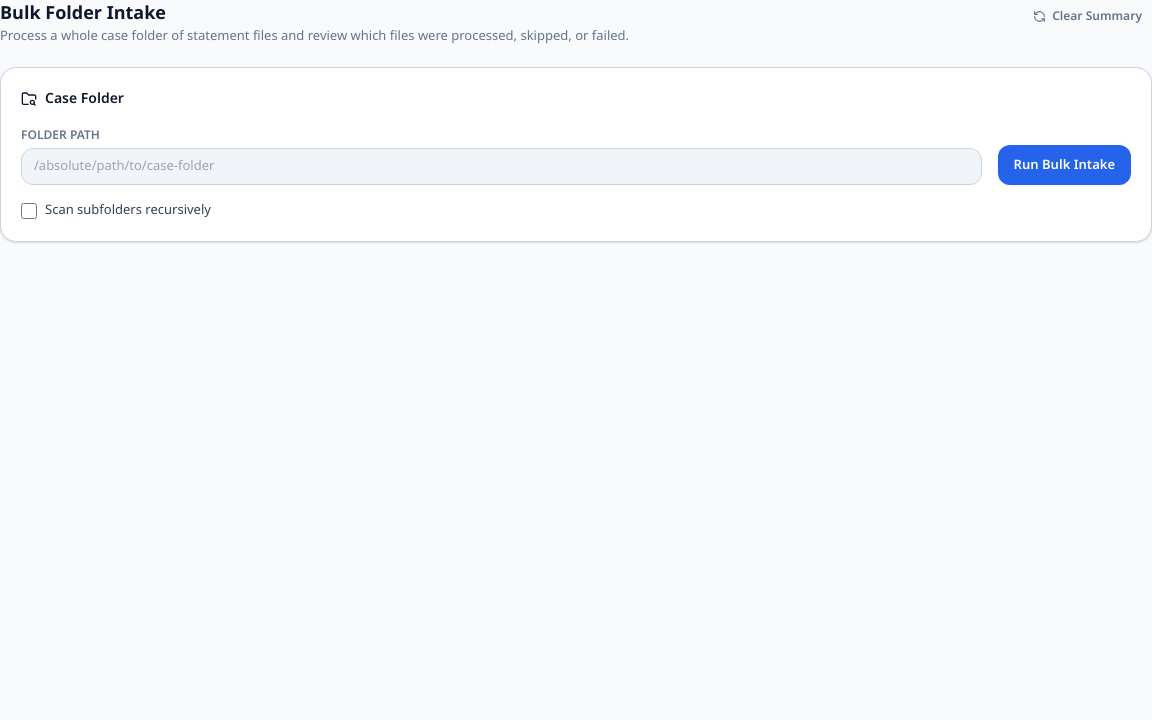
BulkIntake › filters to analyst-review rows only
This screenshot has width=1152, height=720.
In the field with placeholder "/absolute/path/to/case-folder": (501, 167) [21,148,982,185], type "/cases/demo"
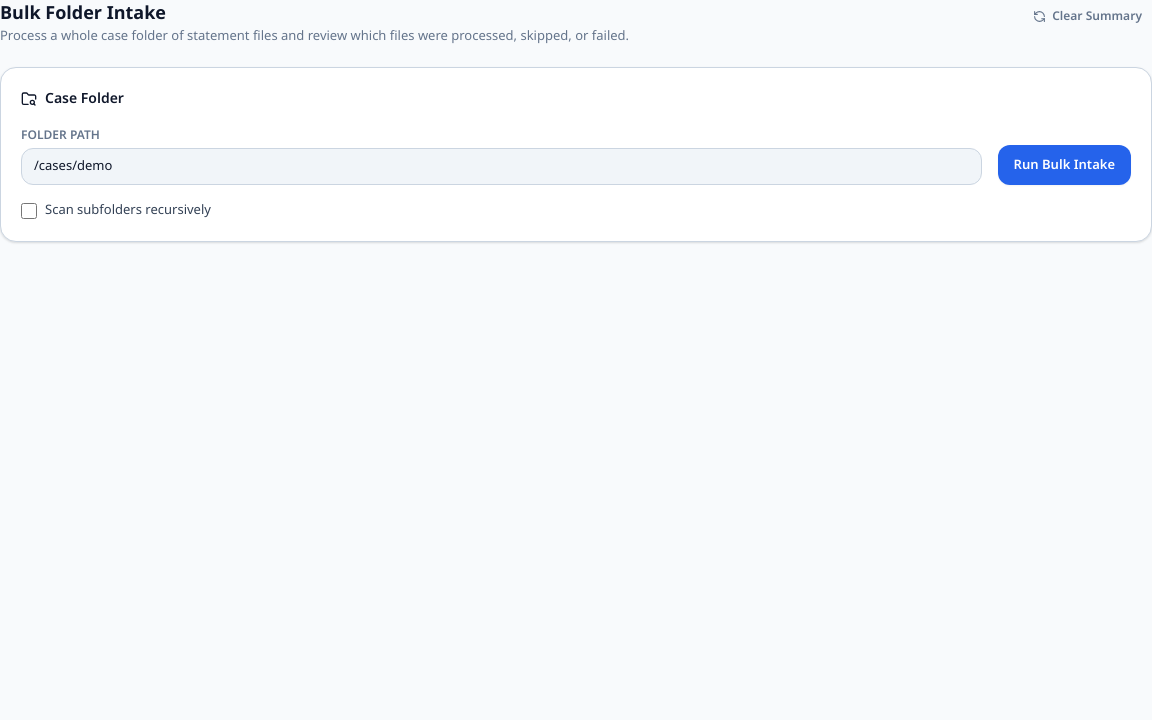
Click the button "Run Bulk Intake": (1064, 165) [998,145,1131,185]
(page scrolled)
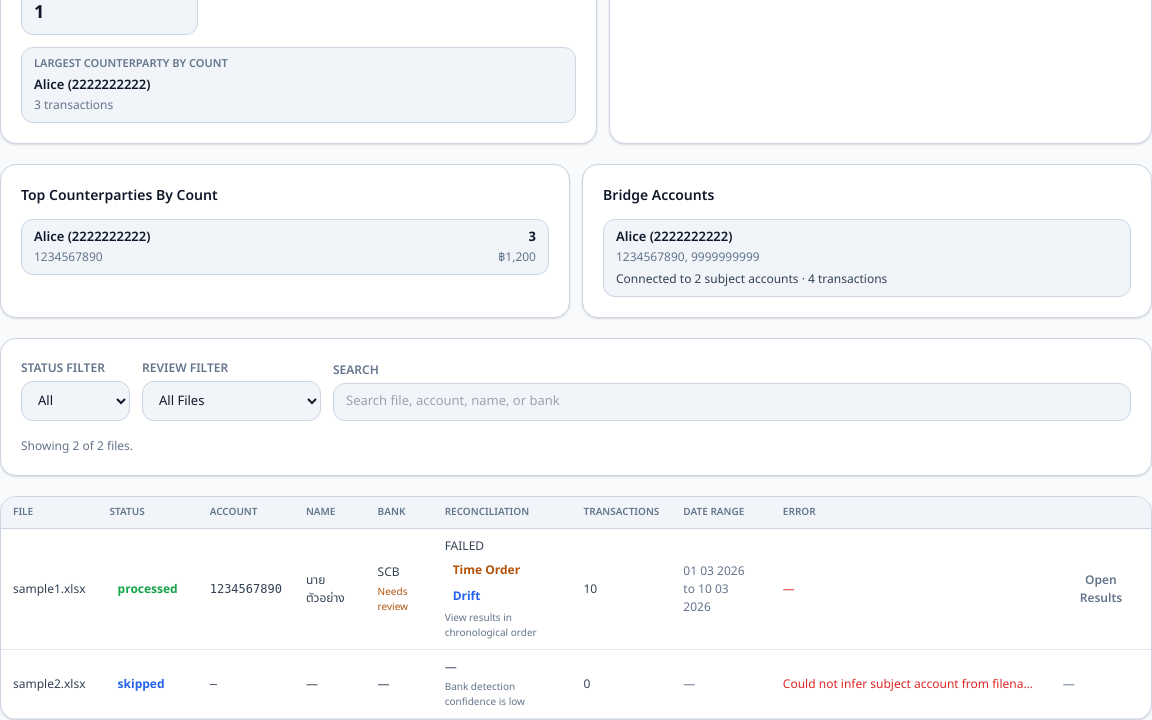
Expected: the text "sample1.xlsx" is shown, [1,528,98,649]
Select "Needs Analyst Review" in the dropdown labelled "Review Filter": (232, 401) [142,381,321,421]
(page scrolled)
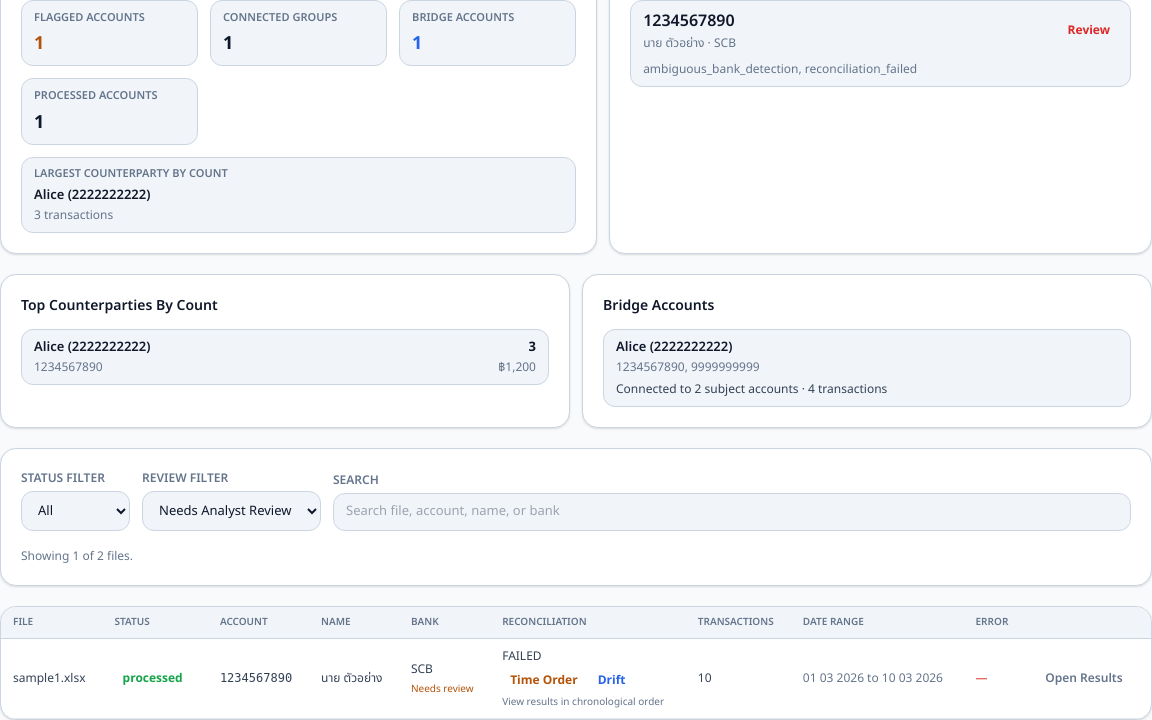
Expected: the text "sample1.xlsx" is shown, [1,638,103,718]
Expected: the text "Showing 1 of 2 files." is shown, [21,547,133,565]
Expected: the text "sample2.xlsx" is gone
